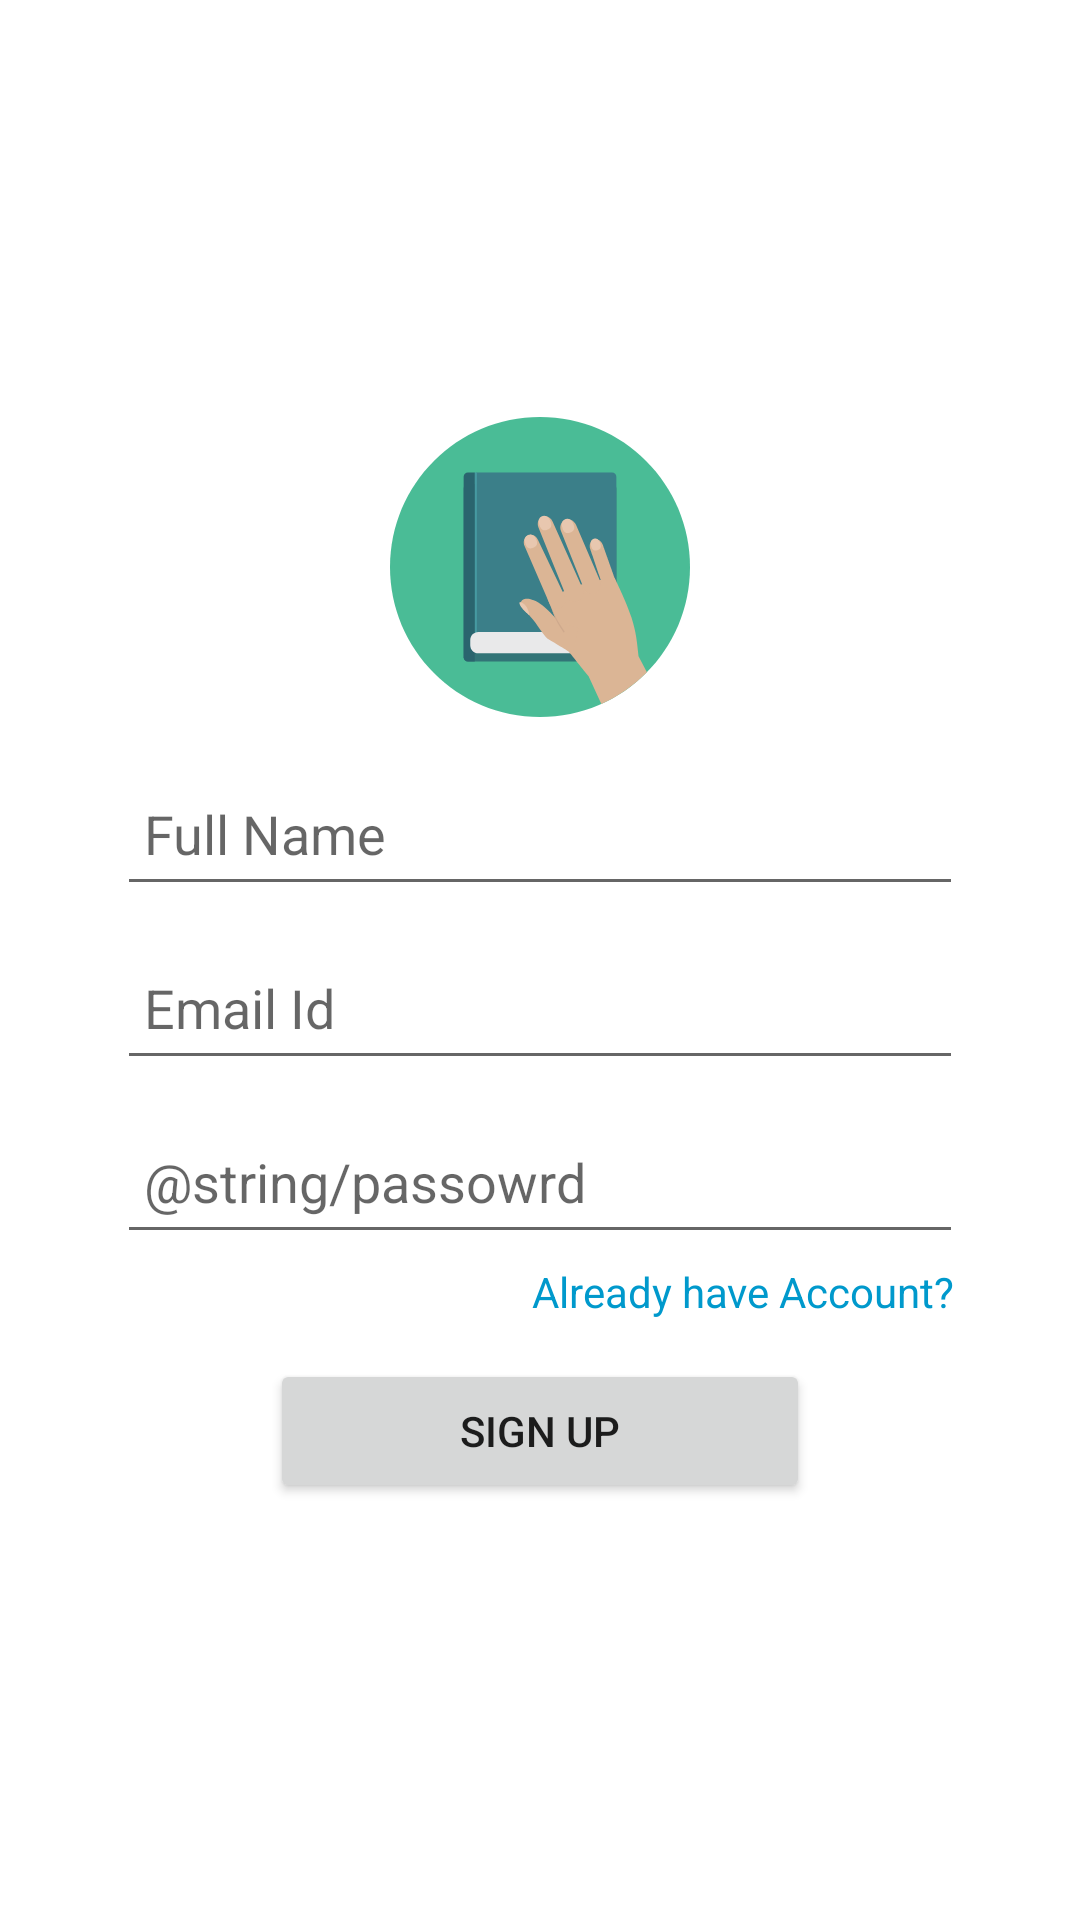

Screen size 1080*1920. Icon name, then its box in pixels as (x1, y1, x2, y2):
book: (390, 417, 690, 717)
